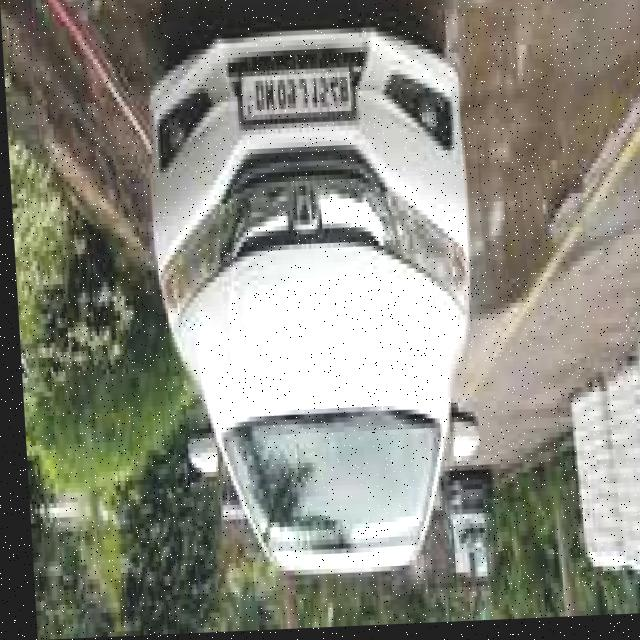plate: (234, 63, 358, 134)
